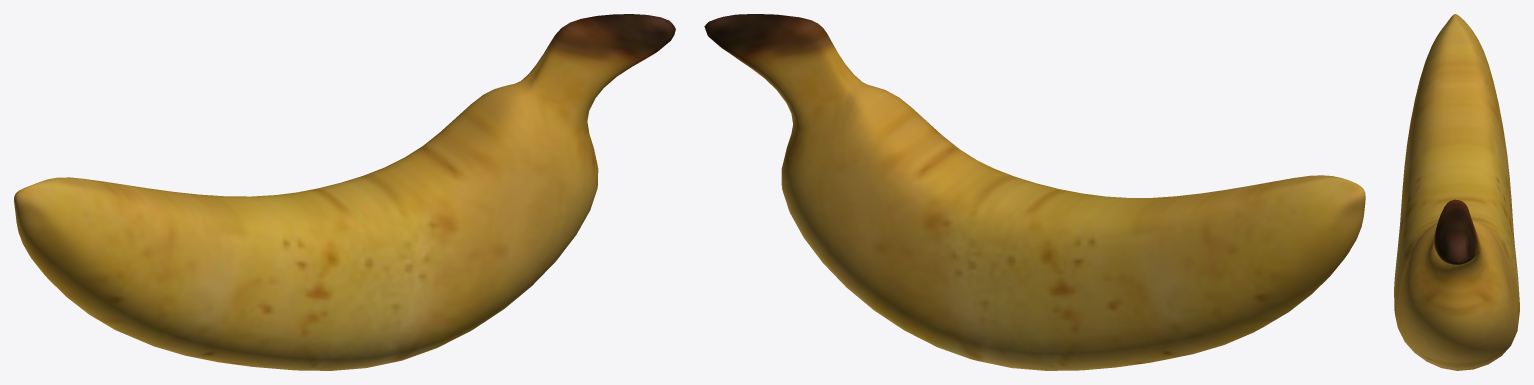
Rendered from Banana(1).fbx.
The picture shows the model from 3 angles, left to right: view 1: azimuth 30°, elevation 25°; view 2: azimuth 150°, elevation 25°; view 3: azimuth 270°, elevation 25°; orthographic projection. The views are drawn at different scales.
Visible parts, largest first — view 1: Cube; view 2: Cube; view 3: Cube.
Part boxes in pixels (x1,y1,x2,y2): Cube: [14, 14, 675, 370]; Cube: [704, 14, 1365, 370]; Cube: [1394, 14, 1519, 370].
Bounding box in the file's own units: 1201 × 495 × 253.
